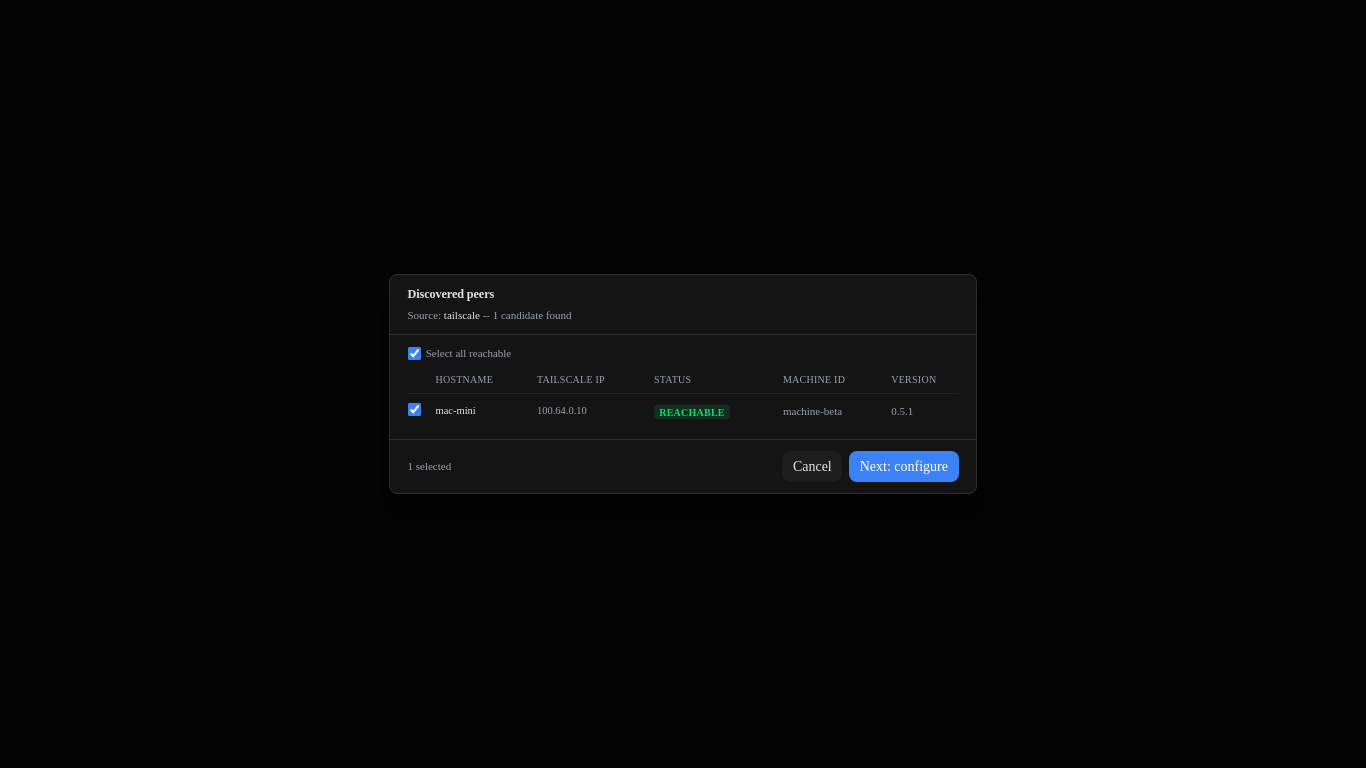
it: DiscoverPeersDialog › shows the bulk interval input on confirm step
The width and height of the screenshot is (1366, 768).
Click the button with test id "discover-next".
click(904, 466)  # box [849,451,959,482]
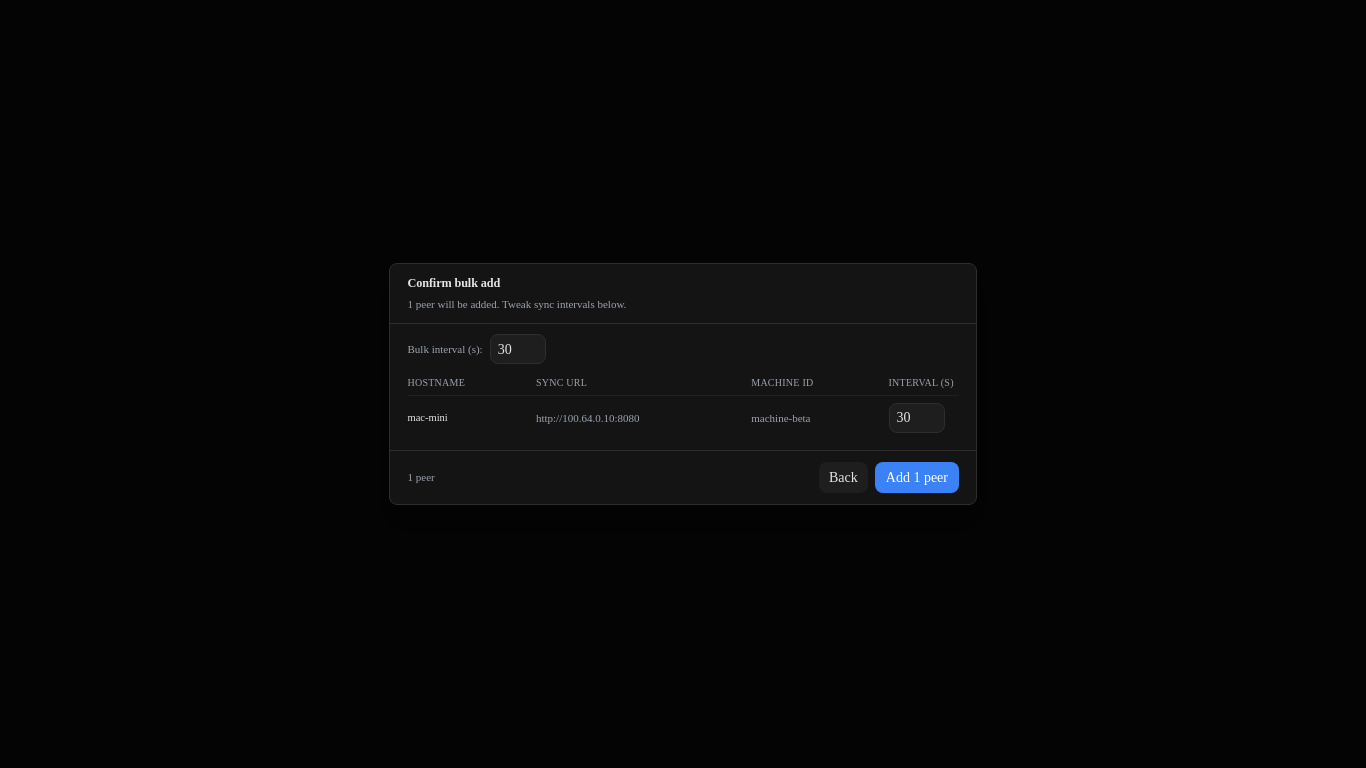
Now the field with test id "discover-bulk-interval" is shown, box [490,334,546,364]
